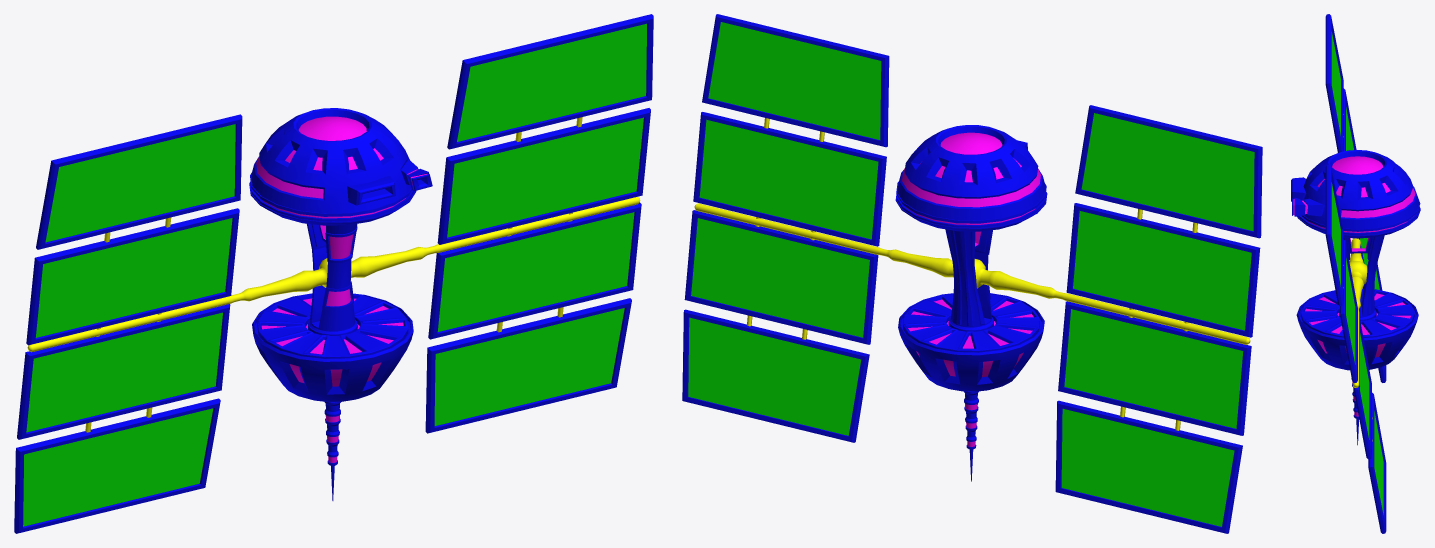
The model's file is sat_04.obj.
3 renders of one model, left to right at view 1: azimuth 30°, elevation 25°; view 2: azimuth 150°, elevation 25°; view 3: azimuth 270°, elevation 25°, orthographic. The views are drawn at different scales.
Visible parts, largest first — view 1: sat_04 st_grp; view 2: sat_04 st_grp; view 3: sat_04 st_grp.
Part boxes in pixels (left/top/right/bottom): sat_04 st_grp: left=14, top=14, right=653, bottom=533; sat_04 st_grp: left=682, top=14, right=1262, bottom=533; sat_04 st_grp: left=1291, top=14, right=1420, bottom=533.
Bounding box in the file's own units: 853 × 567 × 208.
